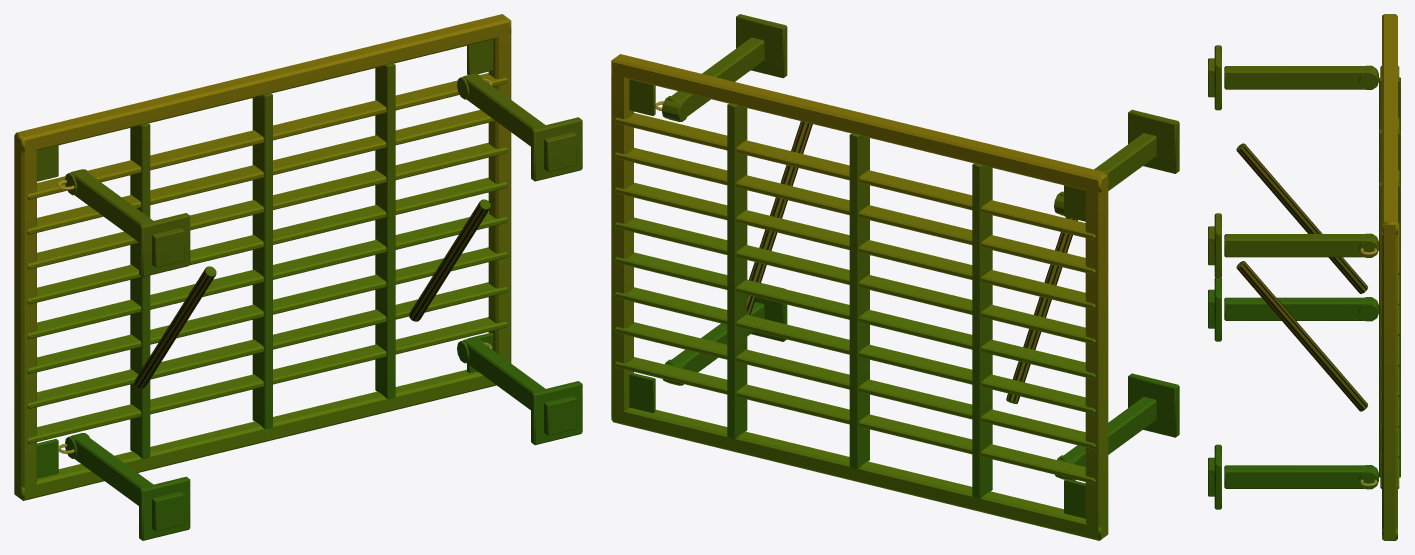
File: RCLModule_assault_walker_orbital_drop_pod_cermet_era.fbx
3 renders of one model, left to right at view 1: azimuth 30°, elevation 25°; view 2: azimuth 150°, elevation 25°; view 3: azimuth 270°, elevation 25°, orthographic. The views are drawn at different scales.
Parts seen in each view (by area): view 1: RCLModule_assault_walker_orbital_drop_pod_cermet_era_Batch_R (×2); view 2: RCLModule_assault_walker_orbital_drop_pod_cermet_era_Batch_R (×2); view 3: RCLModule_assault_walker_orbital_drop_pod_cermet_era_Batch_R (×2).
Boxes of the visible parts, box(x1,y1,x2,y2) form: RCLModule_assault_walker_orbital_drop_pod_cermet_era_Batch_R (×2): box(14, 14, 582, 540); RCLModule_assault_walker_orbital_drop_pod_cermet_era_Batch_R (×2): box(611, 14, 1179, 540); RCLModule_assault_walker_orbital_drop_pod_cermet_era_Batch_R (×2): box(1208, 14, 1400, 540).
Bounding box in the file's own units: 68 × 48.2 × 26.4.
